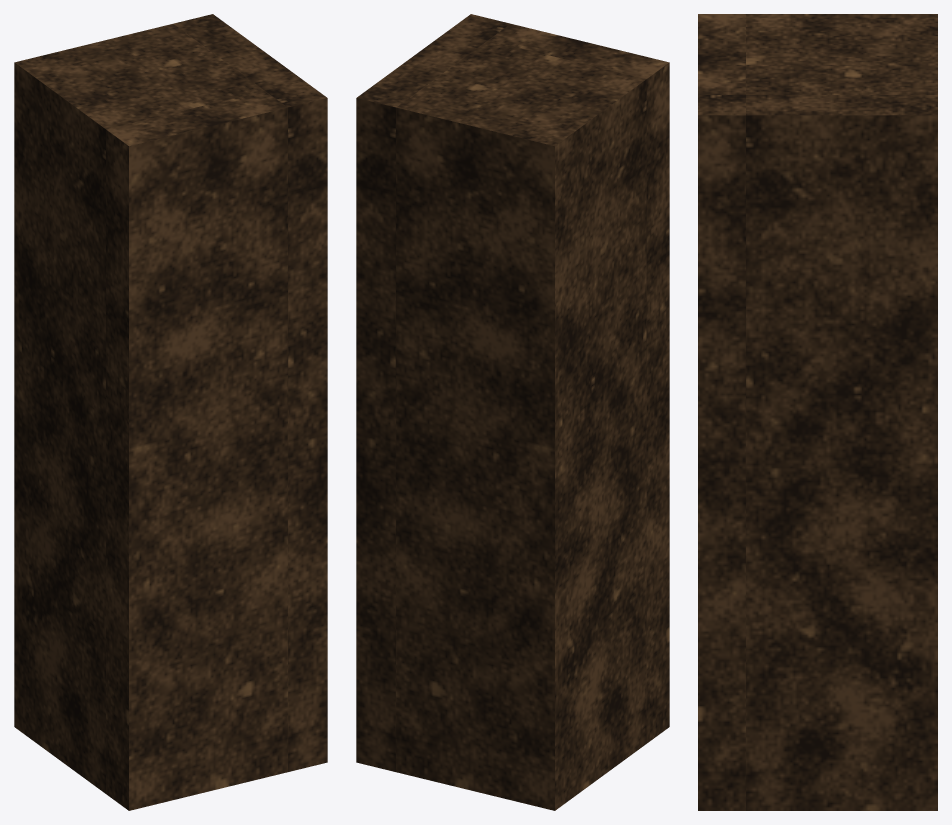
The model's file is wall_corner_earth.glb.
The picture shows the model from 3 angles, left to right: view 1: azimuth 30°, elevation 25°; view 2: azimuth 150°, elevation 25°; view 3: azimuth 270°, elevation 25°; orthographic projection. The views are drawn at different scales.
Parts seen in each view (by area): view 1: crypt_wall_corner_earth; view 2: crypt_wall_corner_earth; view 3: crypt_wall_corner_earth.
Boxes of the visible parts, bbox=[...] form: crypt_wall_corner_earth: bbox=[14, 14, 327, 810]; crypt_wall_corner_earth: bbox=[356, 14, 669, 810]; crypt_wall_corner_earth: bbox=[698, 14, 937, 810].
Bounding box in the file's own units: 0.3125 × 1 × 0.3125.
1 material, 1 textured.
